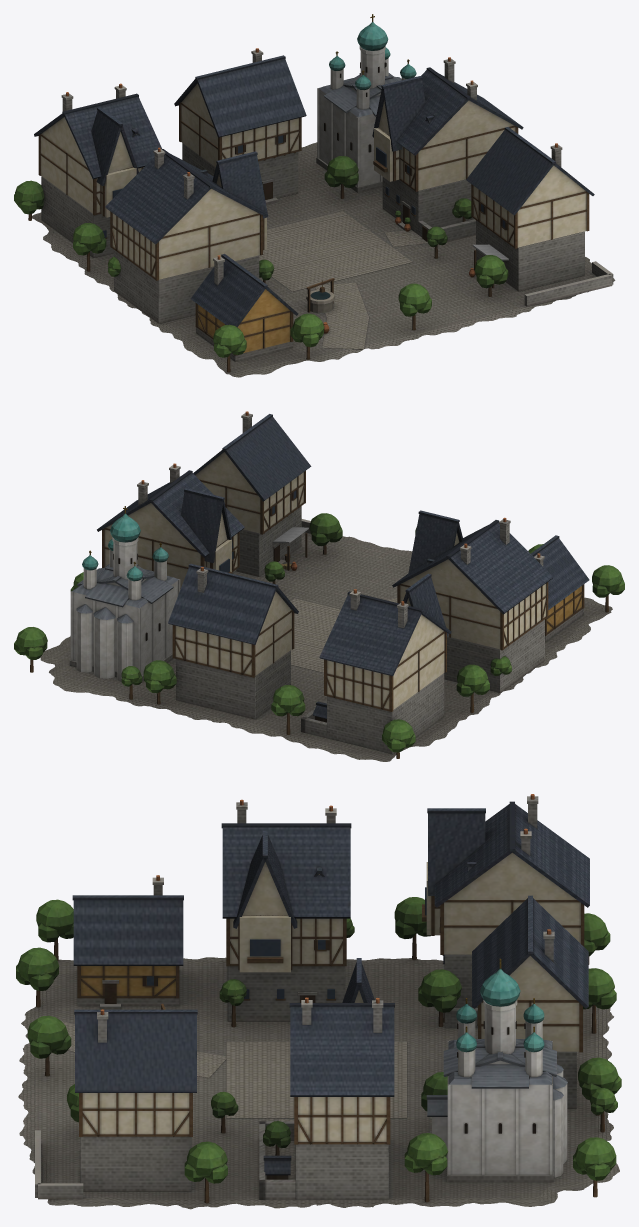
Rendered from kingdoms-town-small-b-easteurope-c7c7720d.glb.
3 renders of one model, top to bottom at view 1: azimuth 30°, elevation 25°; view 2: azimuth 150°, elevation 25°; view 3: azimuth 270°, elevation 25°, orthographic. The views are drawn at different scales.
Visible parts, largest first — view 1: LOD0; view 2: LOD0; view 3: LOD0.
Part boxes in pixels (left/top/right/bottom): LOD0: left=14, top=14, right=615, bottom=377; LOD0: left=14, top=411, right=624, bottom=761; LOD0: left=16, top=794, right=621, bottom=1209.
Size of what is drawn, in the model's own units: 4.11 by 1.5 by 4.06.
3 materials, 3 textured.
